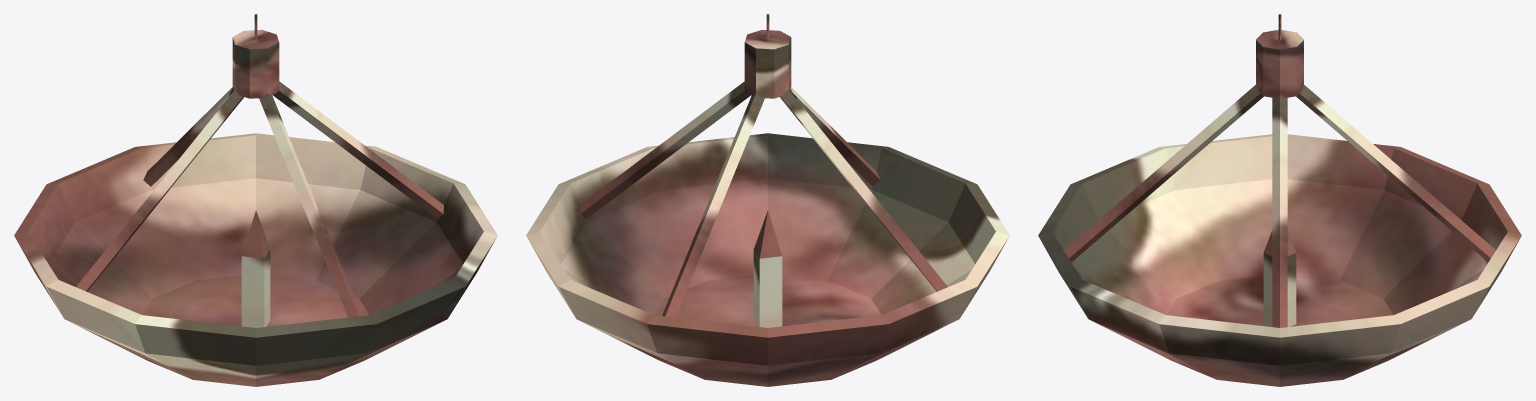
File: ikisugi_antenna.obj
3 views of the same model, side by side, from view 1: azimuth 30°, elevation 25°; view 2: azimuth 150°, elevation 25°; view 3: azimuth 270°, elevation 25° (orthographic).
Parts seen in each view (by area): view 1: Cylinder.001, Cylinder.005_Cylinder.004, Cylinder.006_Cylinder.004, Cylinder.004, Cylinder.008_Cylinder.005, Cylinder.003, Cylinder.007_Cylinder.004; view 2: Cylinder.001, Cylinder.007_Cylinder.004, Cylinder.006_Cylinder.004, Cylinder.004, Cylinder.008_Cylinder.005, Cylinder.003, Cylinder.005_Cylinder.004; view 3: Cylinder.001, Cylinder.005_Cylinder.004, Cylinder.007_Cylinder.004, Cylinder.006_Cylinder.004, Cylinder.008_Cylinder.005, Cylinder.003.
Boxes of the visible parts, <box> form: Cylinder.001: <box>14,133,497,386</box>; Cylinder.005_Cylinder.004: <box>259,93,361,317</box>; Cylinder.006_Cylinder.004: <box>273,81,443,219</box>; Cylinder.004: <box>76,90,243,291</box>; Cylinder.008_Cylinder.005: <box>232,30,279,98</box>; Cylinder.003: <box>241,210,270,327</box>; Cylinder.007_Cylinder.004: <box>143,87,233,186</box>; Cylinder.001: <box>526,133,1009,386</box>; Cylinder.007_Cylinder.004: <box>662,93,764,317</box>; Cylinder.006_Cylinder.004: <box>580,81,750,219</box>; Cylinder.004: <box>780,90,947,291</box>; Cylinder.008_Cylinder.005: <box>744,30,791,98</box>; Cylinder.003: <box>753,210,782,327</box>; Cylinder.005_Cylinder.004: <box>790,87,880,186</box>; Cylinder.001: <box>1038,134,1521,386</box>; Cylinder.005_Cylinder.004: <box>1064,85,1263,262</box>; Cylinder.007_Cylinder.004: <box>1296,85,1495,262</box>; Cylinder.006_Cylinder.004: <box>1272,95,1287,327</box>; Cylinder.008_Cylinder.005: <box>1256,30,1303,98</box>; Cylinder.003: <box>1263,230,1296,326</box>.
Size of the model in its own units: 3.82 by 3.1 by 3.82.
